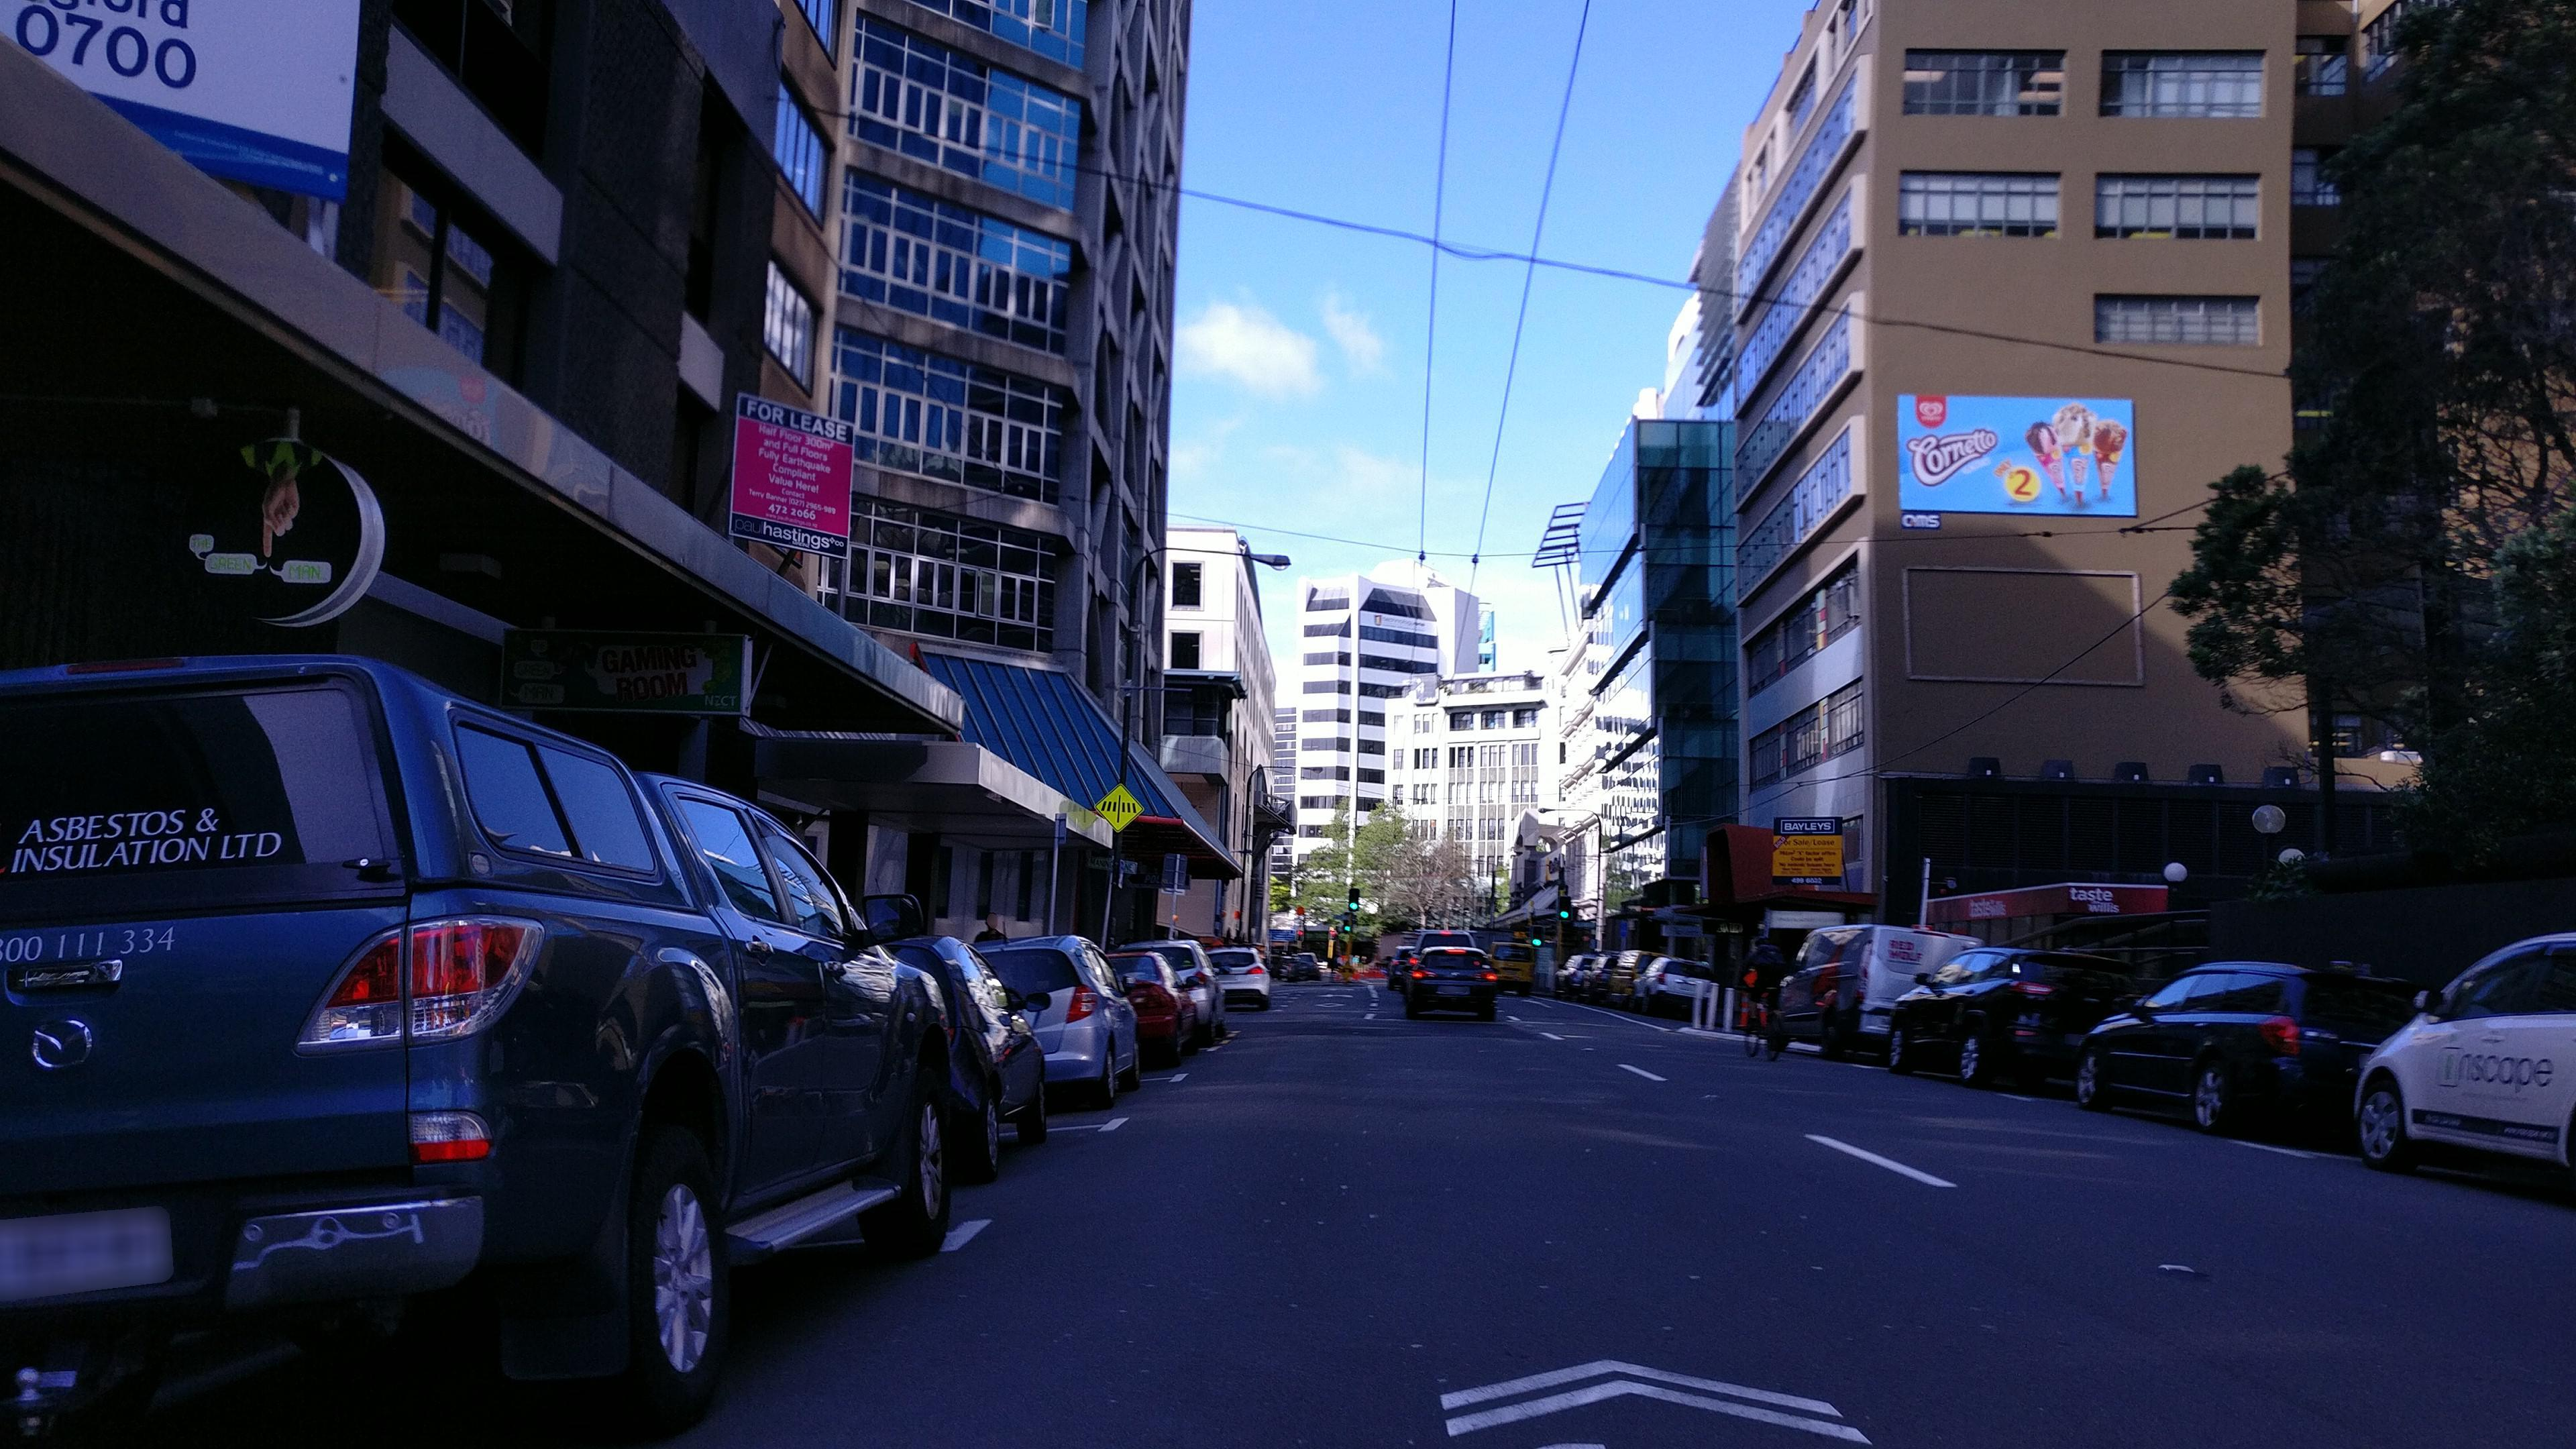property sign: (702, 352, 874, 575), (1753, 798, 1854, 902)
vinyl banner: (1874, 364, 2158, 534)
